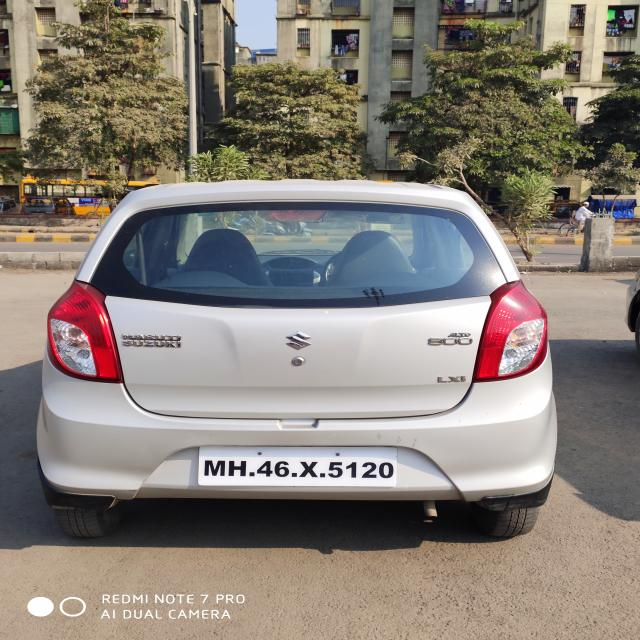Number-Plate: (196, 451, 401, 486)
